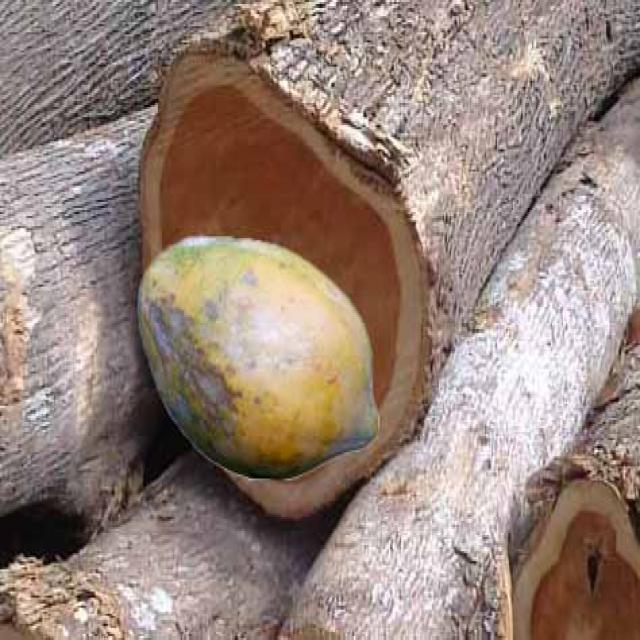Pepaya rippen: (126, 222, 380, 495)
